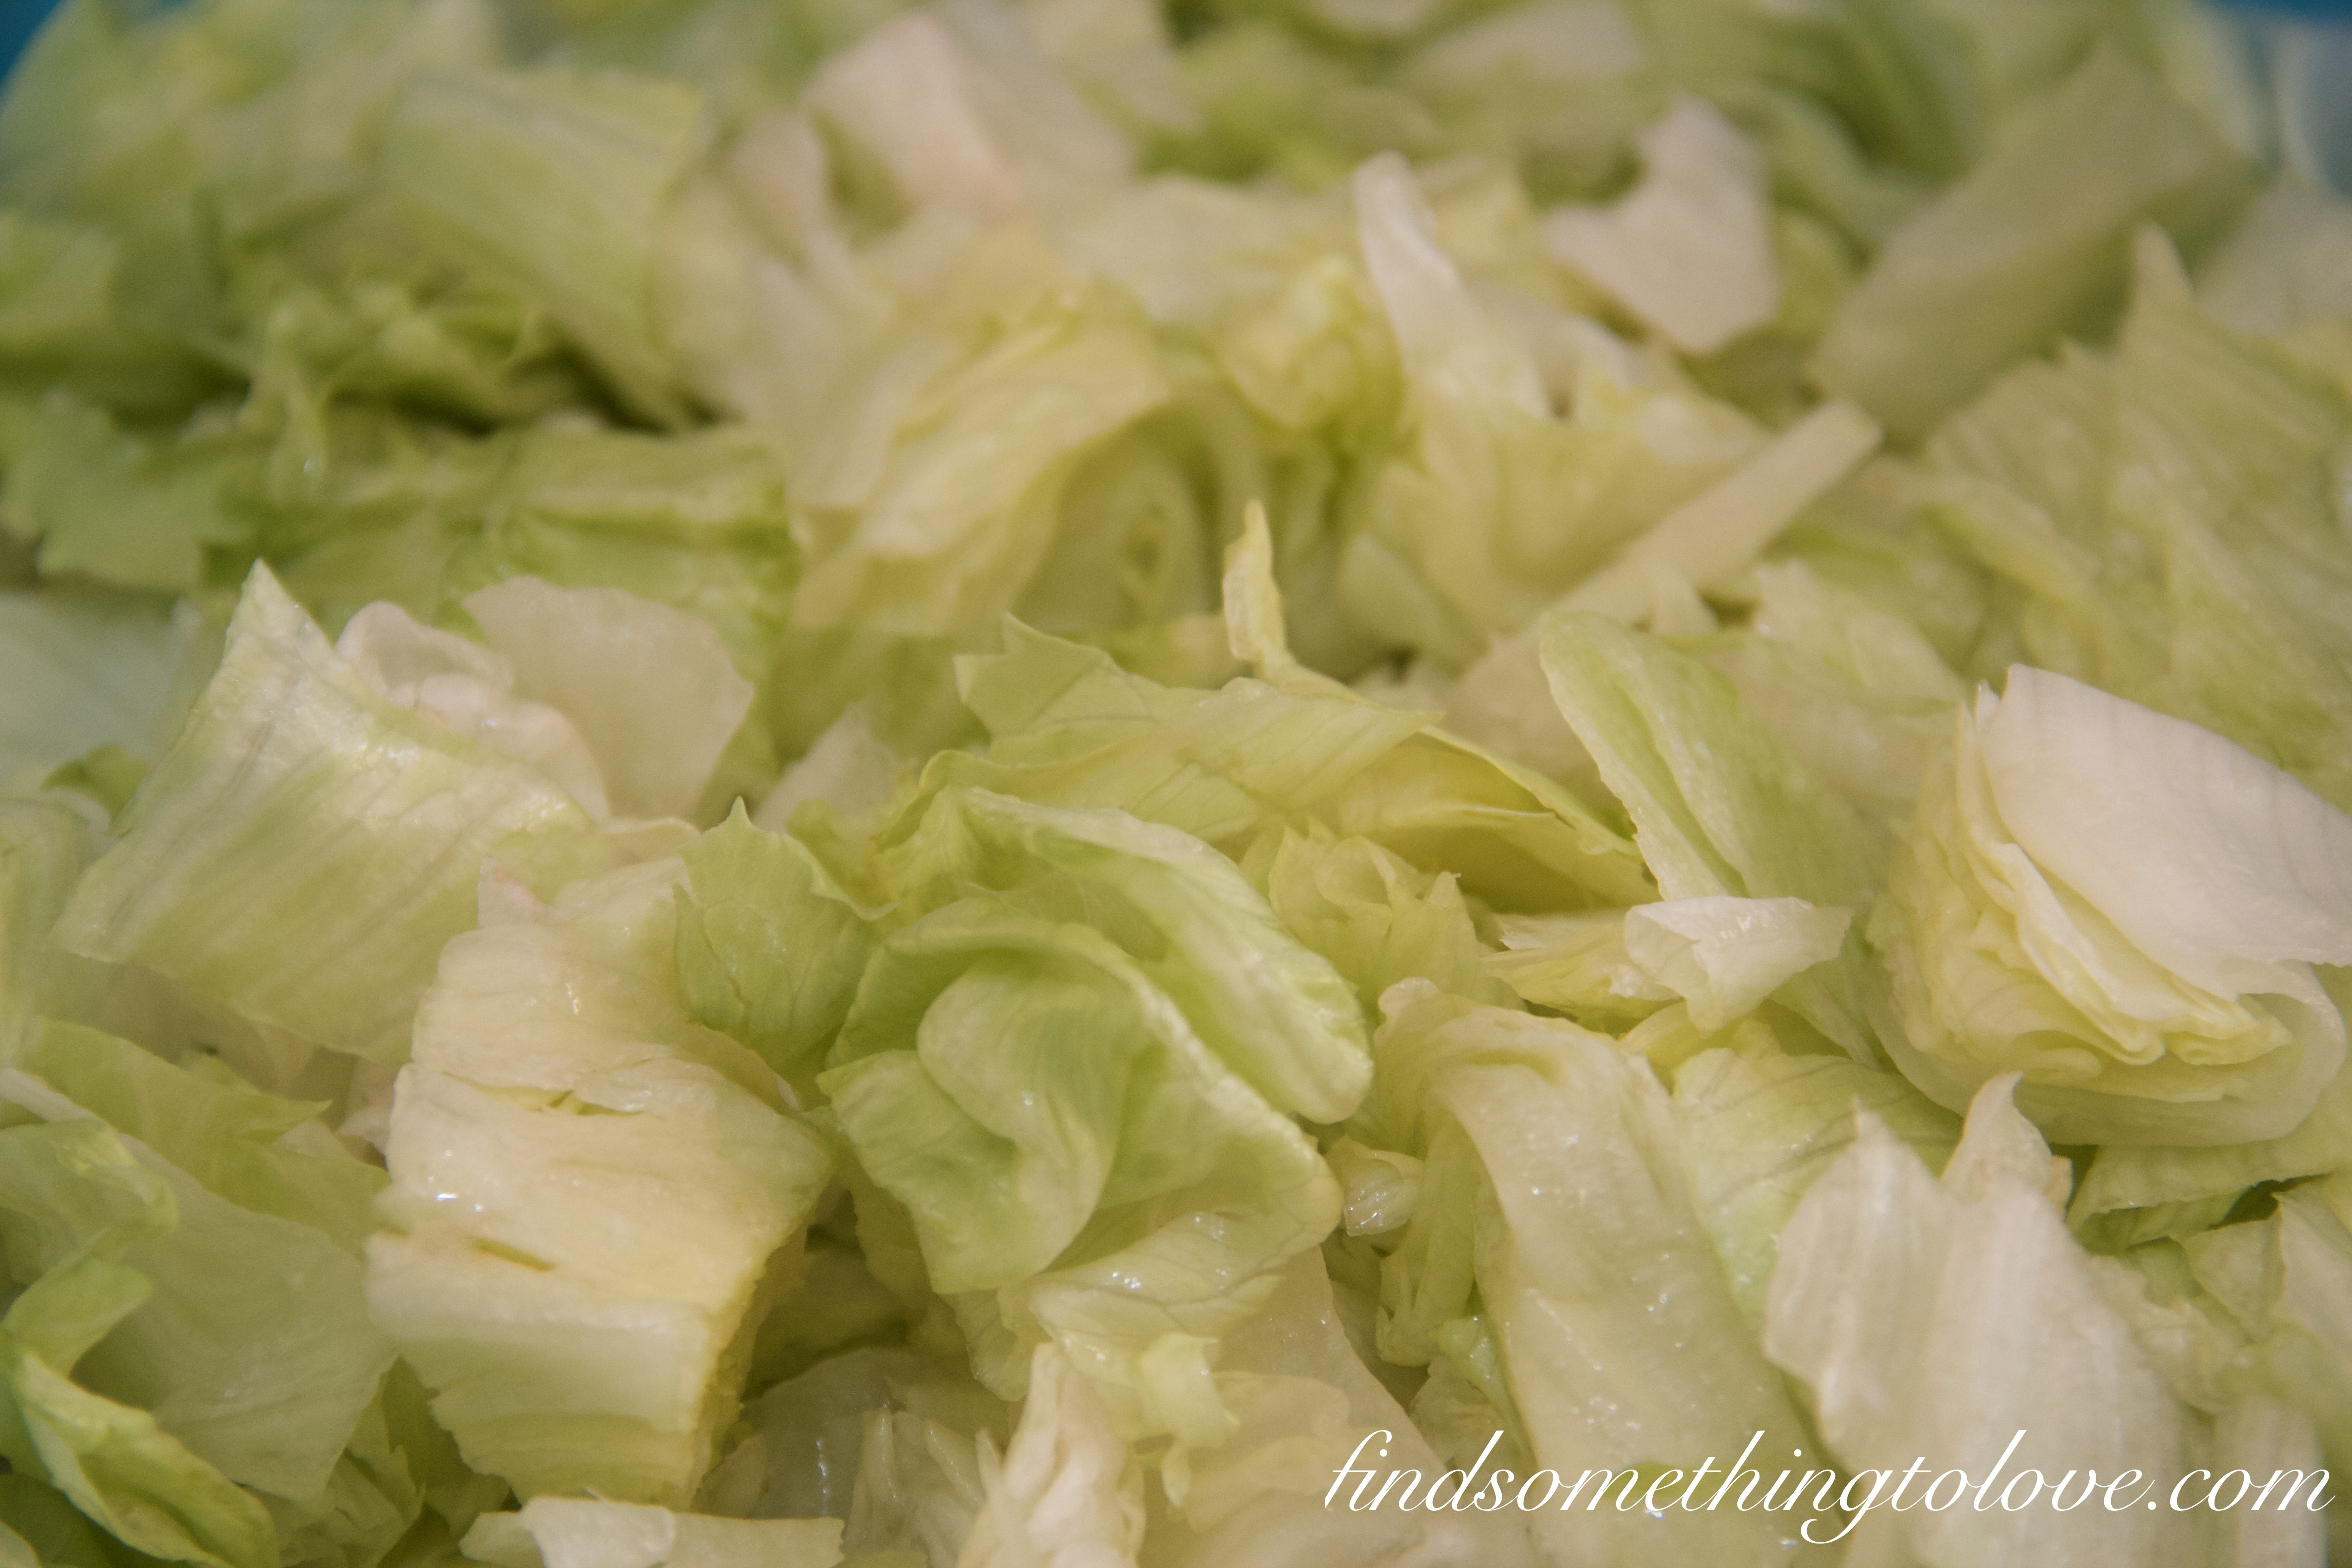chopped lettuce: (275, 213, 2013, 1335)
